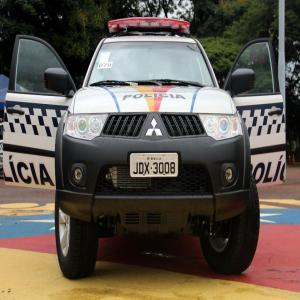Vehicle-registration-plate: (140, 154, 172, 186)
